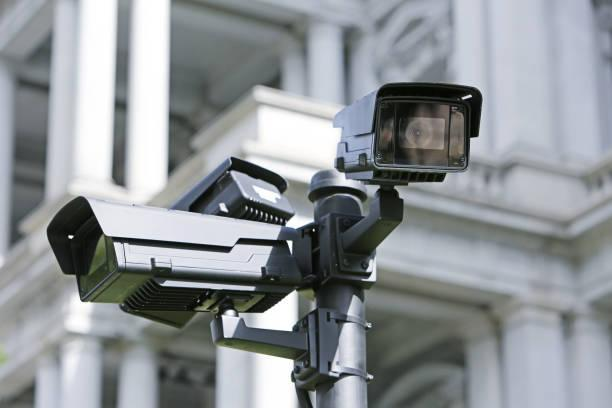camera: (45, 152, 308, 327), (300, 62, 508, 188), (169, 124, 308, 207)
